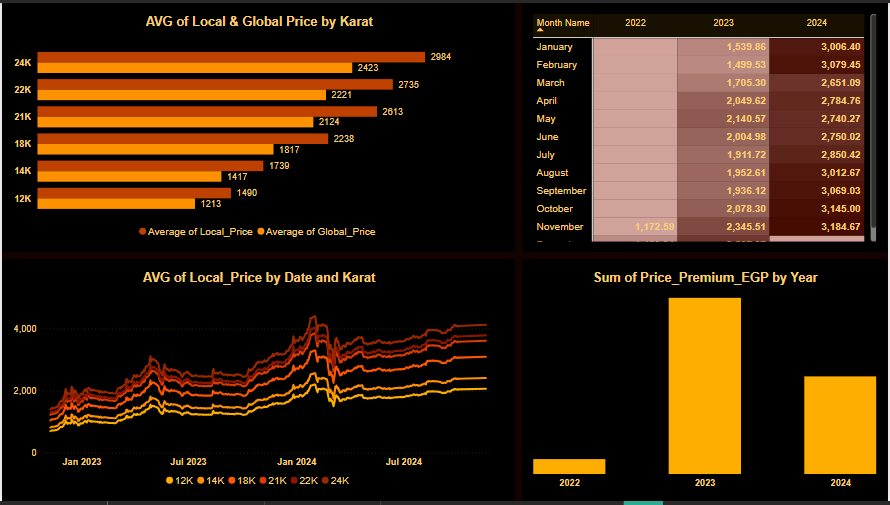

What the dashboard file says about the page in this screenshot:
{"tool":"powerbi","page":{"name":"Price Premium & Market Comparison","canvas":[1280,720],"ordinal":2},"visuals":[{"type":"clusteredBarChart","title":"AVG of Local & Global Price by Karat","fields":{"Category":["Gold_Price_Table.Karat"],"Y":["Avg(Gold_Price_Table.Local_Price)","Avg(Gold_Price_Table.Global_Price)"]},"box":[0,0,741.7,360],"z":0},{"type":"lineChart","title":"AVG of Local_Price by Date and Karat","fields":{"Y":["Avg(Gold_Price_Table.Local_Price)"],"Series":["Gold_Price_Table.Karat"],"Category":["Date_Table.Date Hierarchy.Date","Date_Table.Date Hierarchy.Year","Date_Table.Date Hierarchy.Quarter","Date_Table.Date Hierarchy.Month Name","Date_Table.Date Hierarchy.Month Year Sort","Date_Table.Date Hierarchy.Day of Week"]},"box":[0,370.1,741.7,349.9],"z":1000},{"type":"clusteredColumnChart","fields":{"Y":["Sum(Gold_Price_Table.Price_Premium_EGP)"],"Category":["Date_Table.Year"]},"box":[751.8,370.1,527.7,349.9],"z":2000},{"type":"pivotTable","fields":{"Columns":["Date_Table.Year"],"Rows":["Date_Table.Month Name"],"Values":["Avg(Gold_Price_Table.Local_Price)"]},"box":[751.8,0,527.7,360],"z":3000}]}

Visuals, with their boxes in screenshot pixels (x1, y1, x2, y2), scaled from the page's 1280x720 canvas onto the 890x505 screenshot:
"AVG of Local & Global Price by Karat" clusteredBarChart: (0, 0, 516, 252)
"AVG of Local_Price by Date and Karat" lineChart: (0, 260, 516, 504)
clusteredColumnChart - Sum(Gold_Price_Table.Price_Premium_EGP) x Date_Table.Year: (523, 260, 889, 504)
pivotTable - Date_Table.Year x Date_Table.Month Name: (523, 0, 889, 252)
